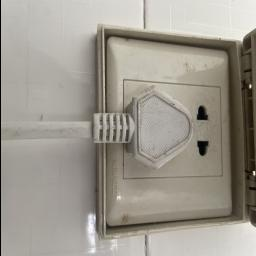outlet: (88, 28, 240, 237)
